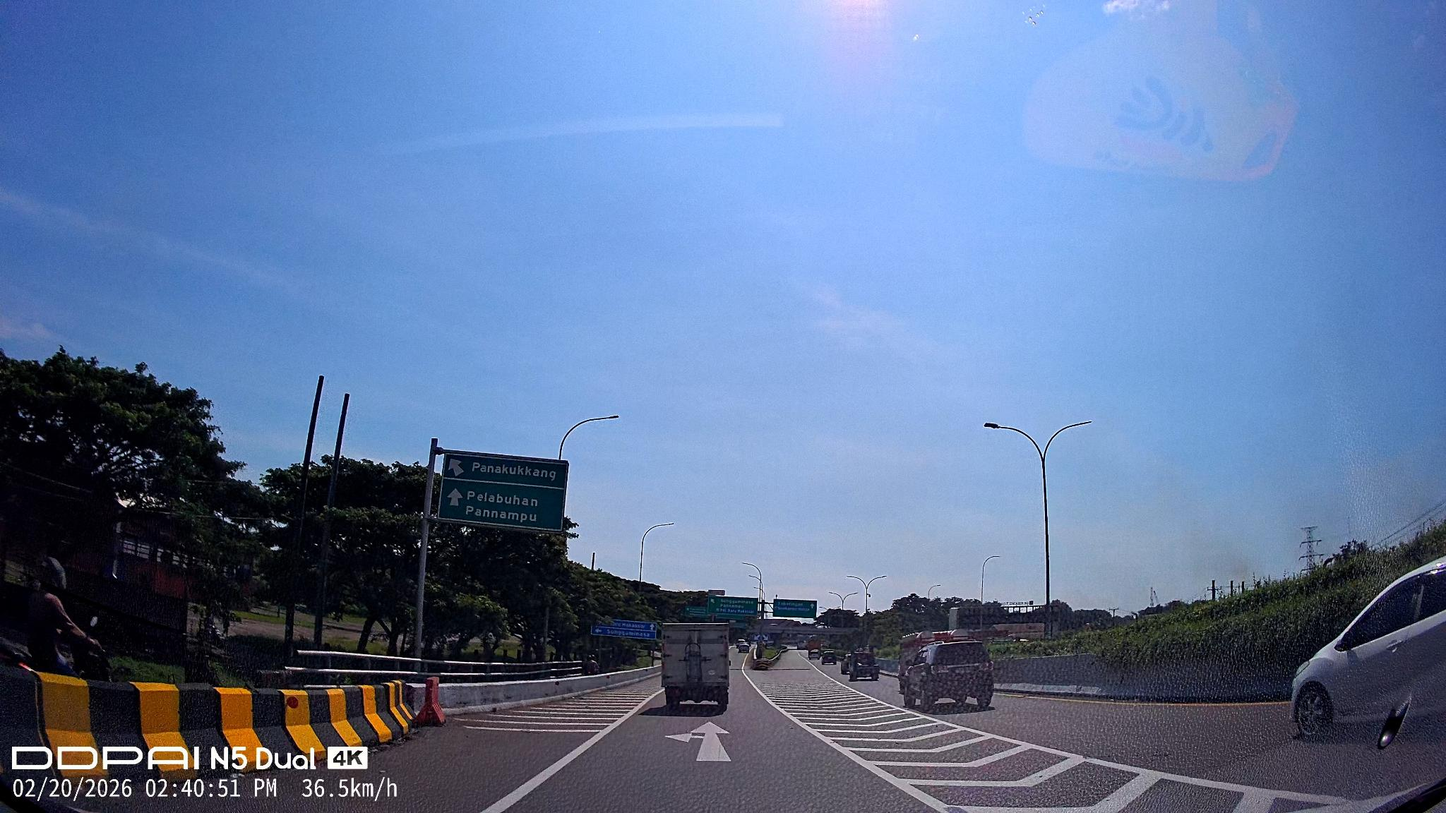rambu_teks: (439, 451, 570, 532)
